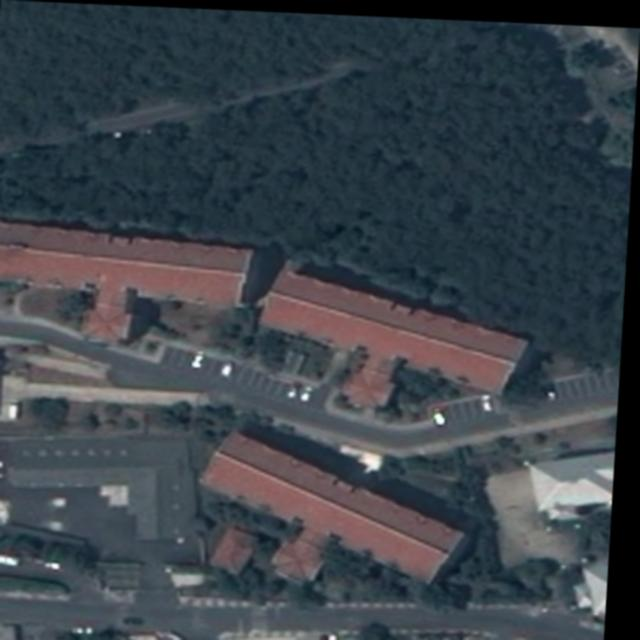Batiment: (207, 429, 470, 577), (264, 267, 530, 386), (0, 222, 256, 338), (534, 446, 620, 513), (215, 523, 262, 572)
